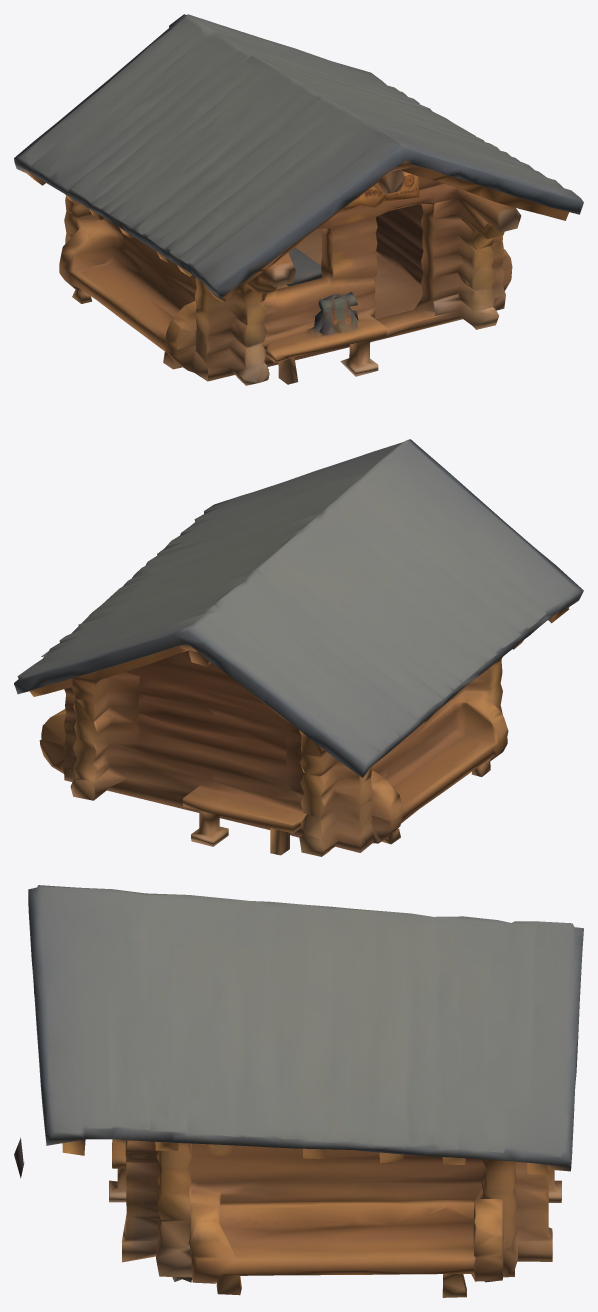
The model's file is 7wegehuette.glb.
The picture shows the model from 3 angles, top to bottom: view 1: azimuth 30°, elevation 25°; view 2: azimuth 150°, elevation 25°; view 3: azimuth 270°, elevation 25°; orthographic projection. The views are drawn at different scales.
Visible parts, largest first — view 1: tripo_node_5e59ac24-7eef-4ada-b3db-b4c79e00cfc4; view 2: tripo_node_5e59ac24-7eef-4ada-b3db-b4c79e00cfc4; view 3: tripo_node_5e59ac24-7eef-4ada-b3db-b4c79e00cfc4.
Part boxes in pixels (x1,y1,x2,y2): tripo_node_5e59ac24-7eef-4ada-b3db-b4c79e00cfc4: [14, 14, 583, 385]; tripo_node_5e59ac24-7eef-4ada-b3db-b4c79e00cfc4: [14, 439, 583, 856]; tripo_node_5e59ac24-7eef-4ada-b3db-b4c79e00cfc4: [14, 885, 583, 1297].
Size of the model in its own units: 0.8383 by 0.5529 by 0.9022.
1 material, 1 textured.
